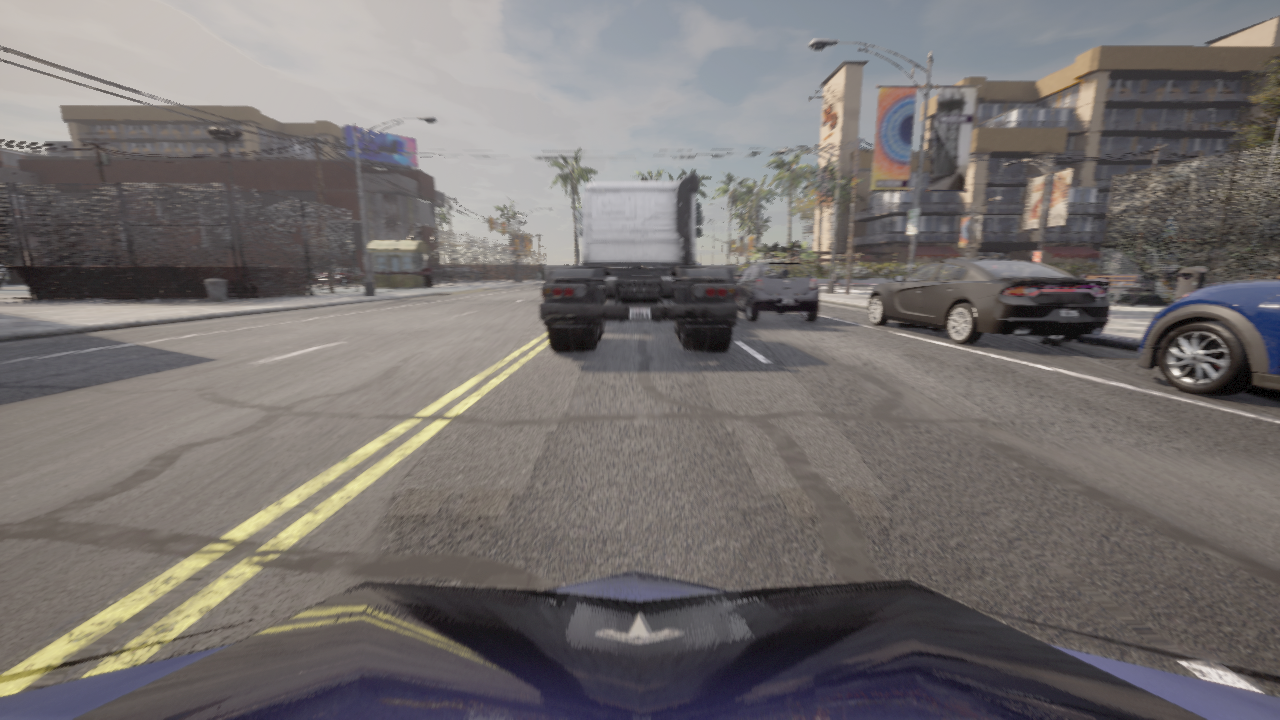cyclist: (0, 569, 1279, 719), (540, 175, 738, 351), (868, 254, 1110, 343), (1138, 280, 1279, 394), (736, 261, 819, 321), (316, 267, 366, 286), (436, 266, 484, 280), (312, 270, 324, 282), (735, 269, 745, 279)
